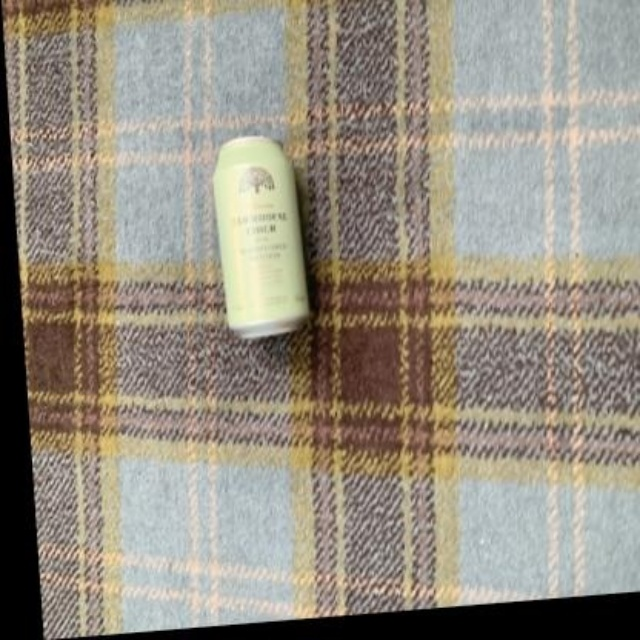trash: (214, 135, 308, 337)
